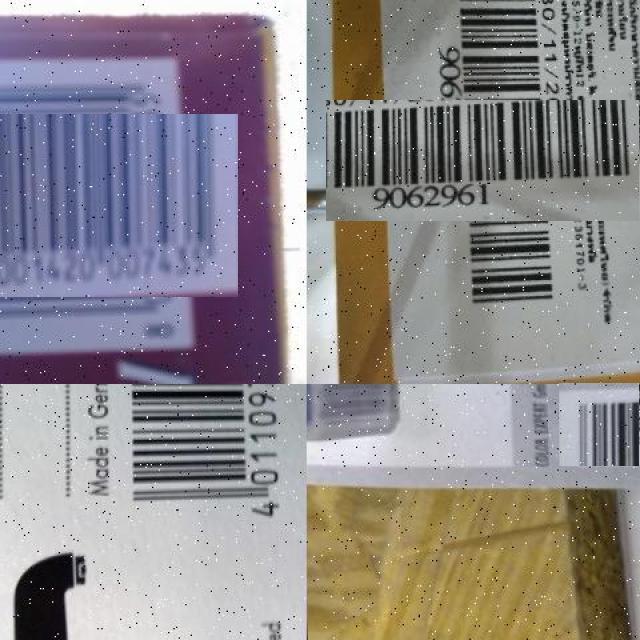Barcode: (0, 86, 210, 325), (376, 50, 598, 271), (108, 384, 303, 527), (558, 383, 639, 466)
